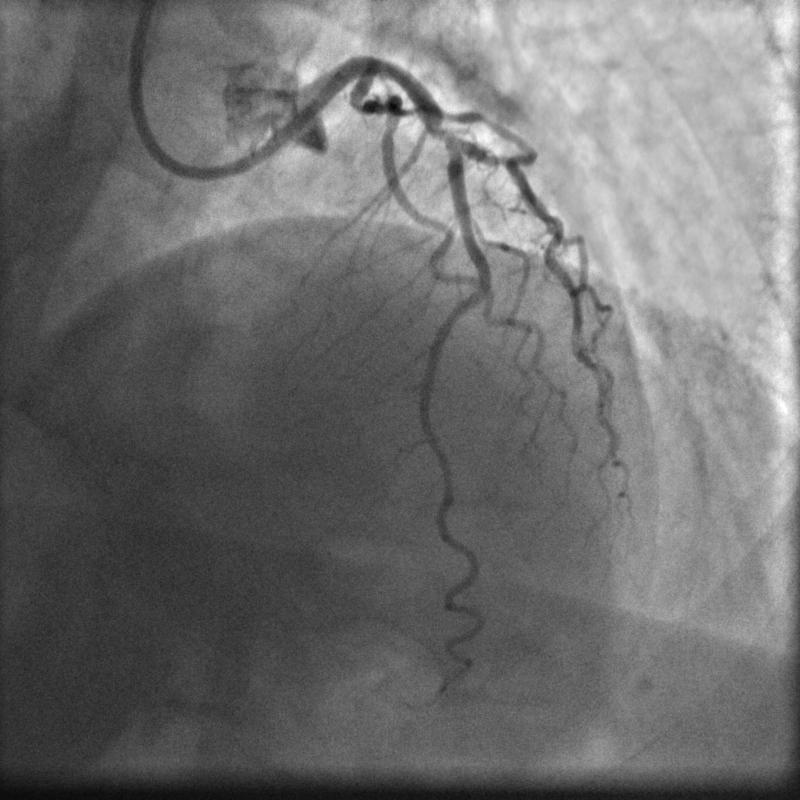Stenosis: (422, 120, 461, 144)
